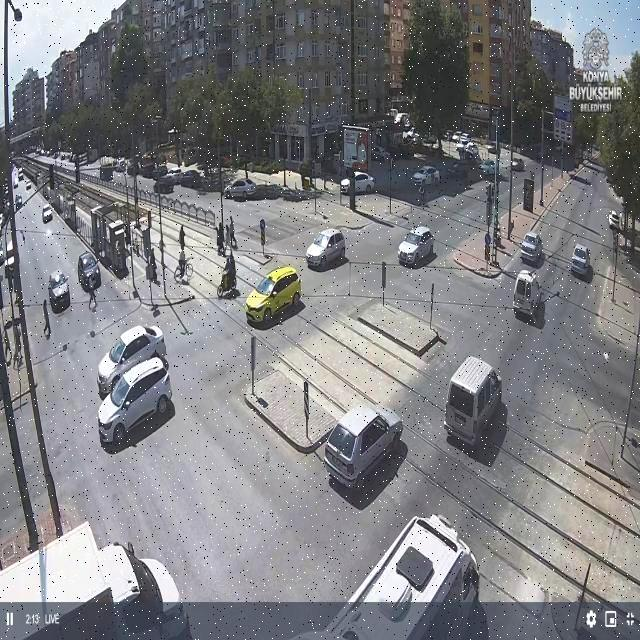Car: (323, 514, 478, 640), (323, 404, 404, 488), (99, 358, 172, 443), (443, 356, 503, 446), (244, 264, 302, 322), (306, 228, 344, 268), (398, 225, 434, 267), (514, 269, 540, 319), (49, 270, 71, 310), (78, 252, 102, 288), (519, 230, 543, 262), (222, 179, 258, 200), (570, 244, 592, 278), (201, 176, 234, 193), (412, 166, 440, 186), (180, 170, 208, 188), (155, 174, 177, 193), (478, 160, 501, 177), (446, 162, 468, 178), (371, 145, 390, 161), (138, 163, 157, 178), (207, 166, 229, 178), (464, 142, 480, 158), (608, 211, 621, 229), (151, 167, 169, 180), (402, 130, 418, 144), (394, 112, 409, 126), (42, 204, 53, 222), (422, 134, 438, 146), (128, 163, 142, 176), (511, 157, 524, 170), (574, 152, 586, 166), (458, 133, 472, 144), (387, 108, 399, 120), (584, 145, 598, 155), (443, 130, 455, 141), (487, 144, 499, 154), (118, 158, 128, 170), (3, 198, 12, 211), (568, 168, 578, 178), (555, 143, 566, 152), (3, 186, 10, 200), (536, 151, 544, 163), (13, 172, 19, 188), (617, 194, 625, 206), (451, 133, 461, 142), (0, 248, 5, 264), (70, 154, 78, 163), (18, 168, 24, 180), (0, 214, 5, 228), (29, 147, 39, 154), (36, 148, 44, 156), (591, 144, 600, 151), (9, 152, 16, 159), (503, 144, 511, 150), (36, 172, 41, 180), (60, 154, 66, 160), (53, 152, 59, 158)
Cycle: (173, 250, 195, 280)
Truck: (1, 522, 189, 640)
